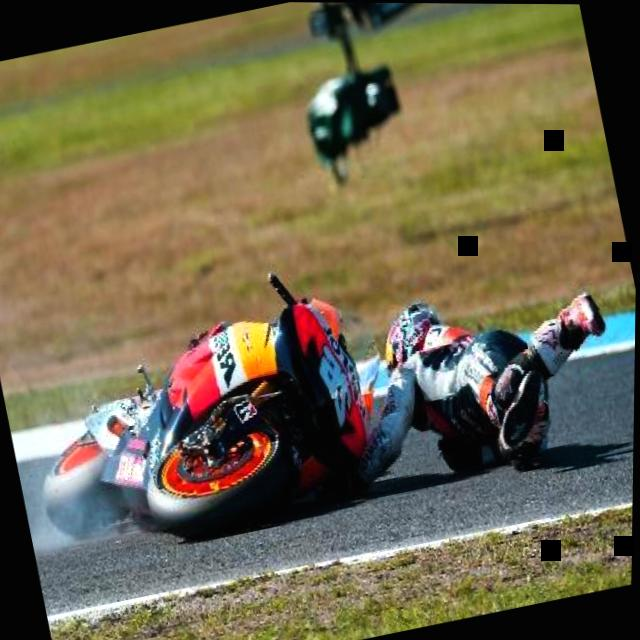Fall-Detected: (274, 230, 632, 522)
